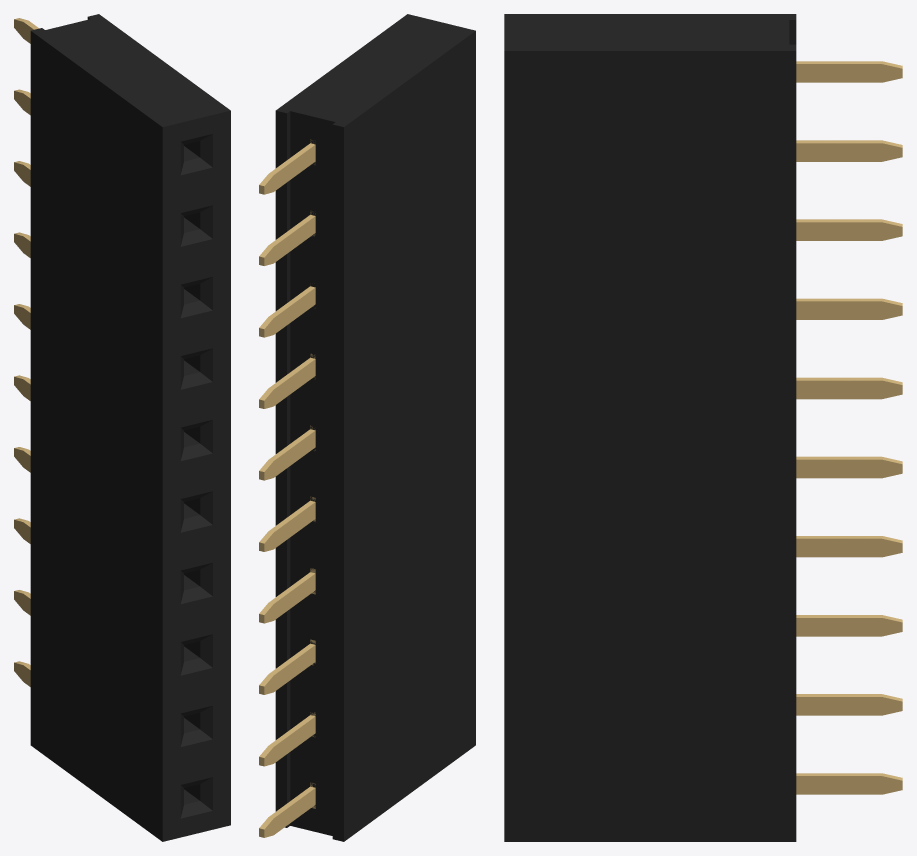
Rendered from socket-1x10.glb.
3 renders of one model, left to right at view 1: azimuth 30°, elevation 25°; view 2: azimuth 150°, elevation 25°; view 3: azimuth 270°, elevation 25°, orthographic. The views are drawn at different scales.
Parts seen in each view (by area): view 1: IC-BODY-EPOXY-04, PIN-02; view 2: IC-BODY-EPOXY-04, PIN-02 (×7); view 3: IC-BODY-EPOXY-04, PIN-02 (×7).
Boxes of the visible parts, x1,y1,x2,y2 form: IC-BODY-EPOXY-04: (30, 14, 230, 841); PIN-02: (14, 18, 39, 669); IC-BODY-EPOXY-04: (275, 14, 475, 841); PIN-02 (×7): (259, 139, 315, 837); IC-BODY-EPOXY-04: (504, 14, 796, 841); PIN-02 (×7): (796, 61, 902, 794).
Bounding box in the file's own units: 2.54 × 25.4 × 11.6.
